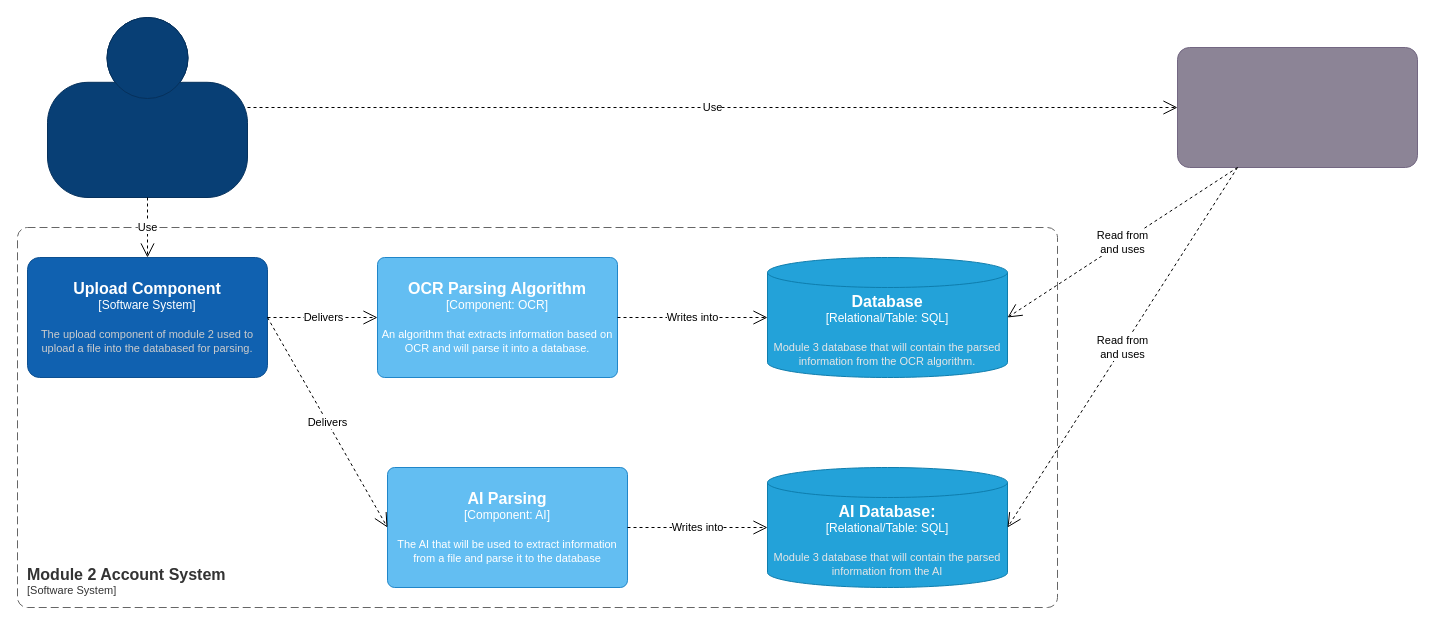
This 1435x625 diagram has some shape labels left out. The centre of each missing label's shape, as x and y in pixels:
Bank Customer [Person] The bank customer that uploads the information.: (147,107)
Report Generator [Software System] Module 4 Component: (1297,107)
